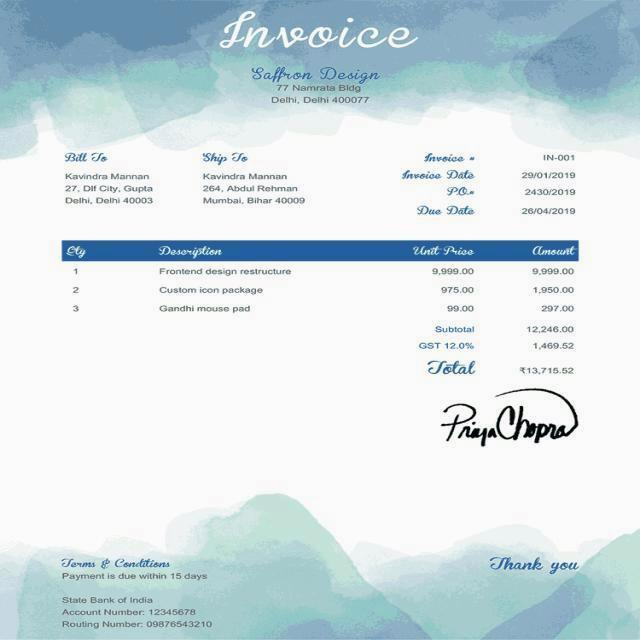paragraph: (395, 147, 583, 223), (54, 552, 221, 636), (214, 7, 421, 56), (412, 321, 582, 380), (435, 385, 582, 452), (193, 139, 315, 213), (57, 143, 160, 213), (247, 60, 388, 109), (486, 552, 584, 578)
table: (62, 237, 578, 317)
